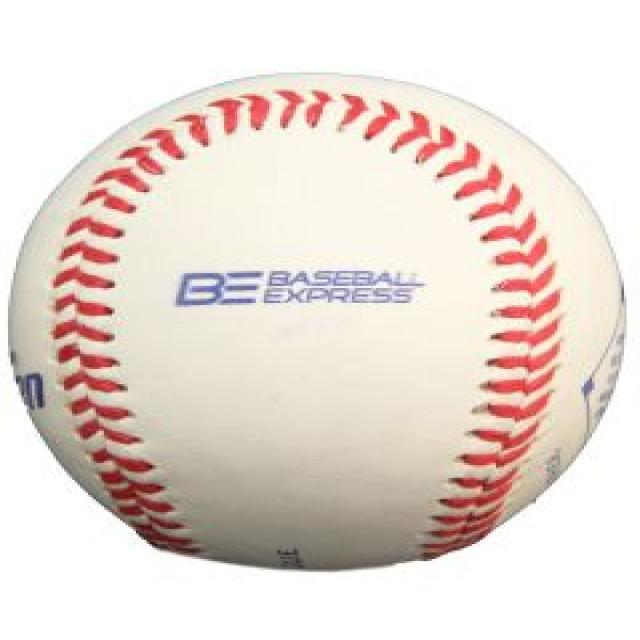beisbol ball: (9, 72, 628, 567)
